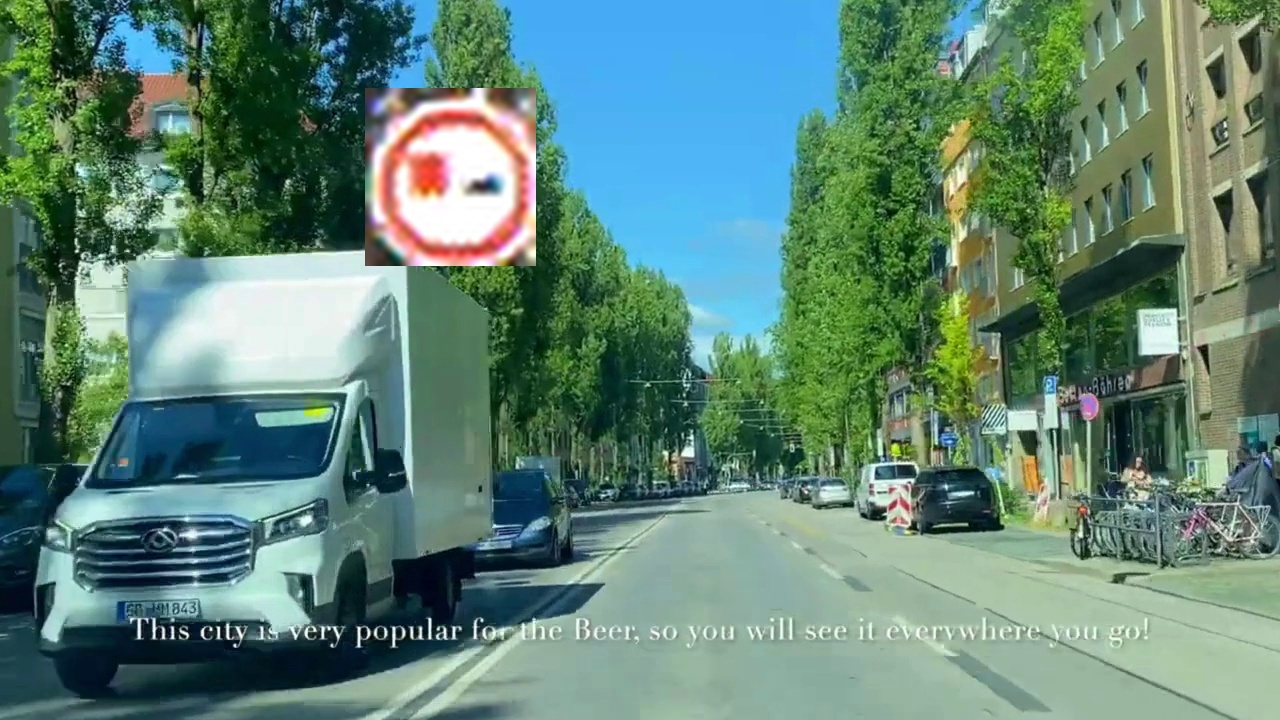No pass >3.5t: (365, 88, 536, 266)
